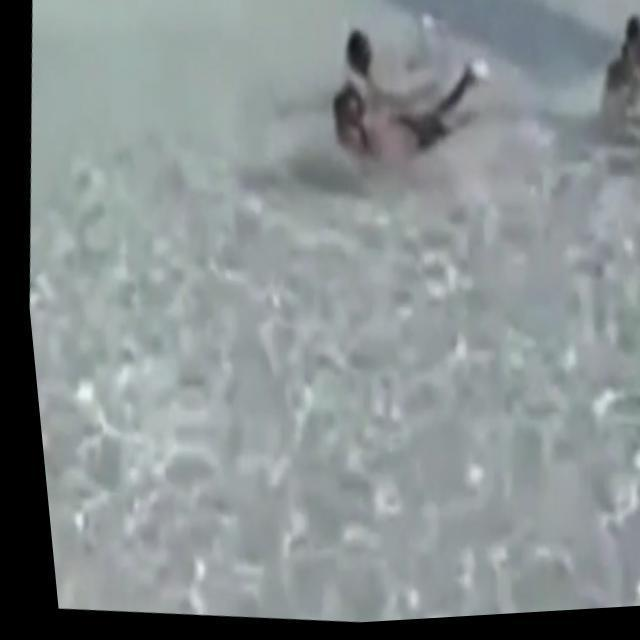swimming: (311, 13, 517, 188)
